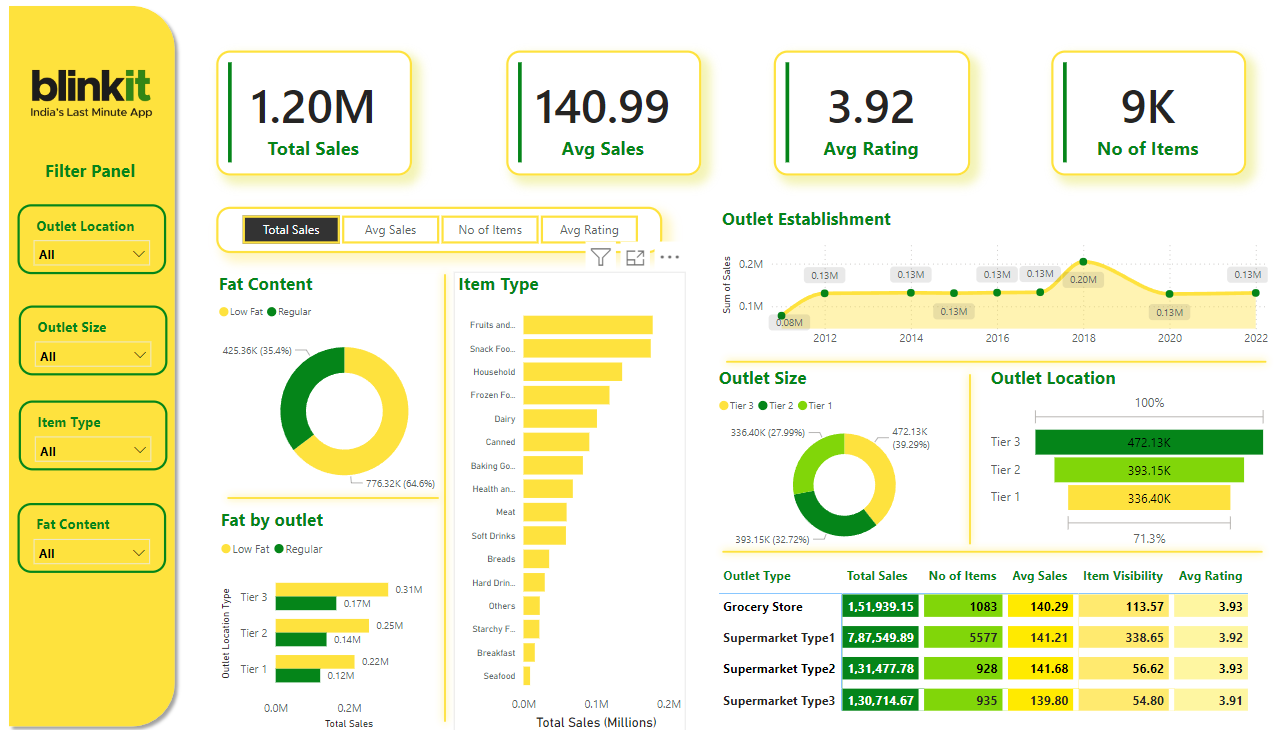

What the dashboard file says about the page in this screenshot:
{"tool":"powerbi","page":{"name":"Page 1","canvas":[1400,800],"ordinal":0},"visuals":[{"type":"shape","box":[1.4,0,197,800.3],"z":0},{"type":"image","box":[1.5,15,196.6,178.6],"z":1000},{"type":"cardVisual","fields":{"Data":["BlinkIT Grocery Data.Total Sales"]},"box":[235.1,57.3,212.5,135.7],"z":2000},{"type":"cardVisual","fields":{"Data":["BlinkIT Grocery Data.Avg Rating"]},"box":[841,57.1,213.3,135.9],"z":3000},{"type":"cardVisual","fields":{"Data":["BlinkIT Grocery Data.Average Sales"]},"box":[550,57.1,212,135.9],"z":4000},{"type":"cardVisual","fields":{"Data":["BlinkIT Grocery Data.No of Items"]},"box":[1142.7,57.1,212,135.9],"z":5000},{"type":"donutChart","title":"Fat Content","fields":{"Y":["BlinkIT Grocery Data.Total Sales"],"Series":["BlinkIT Grocery Data.Item Fat Content"]},"box":[238,297.6,273.1,246],"z":6000},{"type":"slicer","fields":{"Values":["Metrics.Metrics"]},"box":[235.1,226.9,485.1,50.3],"z":7000},{"type":"clusteredBarChart","title":"Fat by outlet","fields":{"Y":["BlinkIT Grocery Data.Total Sales"],"Category":["BlinkIT Grocery Data.Outlet Location Type"],"Series":["BlinkIT Grocery Data.Item Fat Content"]},"box":[235.1,554.4,243.2,245.9],"z":8000},{"type":"barChart","title":" Item Type","fields":{"Y":["BlinkIT Grocery Data.Total Sales"],"Category":["BlinkIT Grocery Data.Item Type"]},"box":[493.2,297.6,252.7,502.7],"z":9000},{"type":"lineChart","title":" Outlet Establishment ","fields":{"Category":["BlinkIT Grocery Data.Outlet Establishment Year"],"Y":["Sum(BlinkIT Grocery Data.Sales)"]},"box":[779.9,226.9,603.3,161.7],"z":10000},{"type":"donutChart","title":"Outlet Size","fields":{"Y":["BlinkIT Grocery Data.Total Sales"],"Category":["BlinkIT Grocery Data.Outlet Location Type"]},"box":[781.3,399.5,273.1,202.4],"z":11000},{"type":"funnel","title":" Outlet Location","fields":{"Y":["Sum(BlinkIT Grocery Data.Sales)"],"Category":["BlinkIT Grocery Data.Outlet Location Type"]},"box":[1072,399.5,311.1,202.4],"z":12000},{"type":"pivotTable","fields":{"Rows":["BlinkIT Grocery Data.Outlet Type"],"Values":["BlinkIT Grocery Data.Total Sales","BlinkIT Grocery Data.No of Items","BlinkIT Grocery Data.Avg Sales","Sum(BlinkIT Grocery Data.Item Visibility)","BlinkIT Grocery Data.Avg Rating"]},"box":[781.3,615.5,618.2,184.8],"z":13000},{"type":"shape","box":[334.2,292.1,298.9,502.7],"z":14000},{"type":"shape","box":[904.9,400.8,298.9,201.1],"z":15000},{"type":"shape","box":[239.1,292.1,245.9,502.7],"z":16000},{"type":"shape","box":[777.2,466,603.3,271.7],"z":17000},{"type":"shape","box":[781.3,259.5,603.3,271.7],"z":18000},{"type":"slicer","fields":{"Values":["BlinkIT Grocery Data.Outlet Location Type"]},"box":[18.4,224.2,161.7,76.1],"z":19000},{"type":"slicer","fields":{"Values":["BlinkIT Grocery Data.Outlet Size"]},"box":[19.8,334.2,161.7,76.1],"z":20000},{"type":"slicer","fields":{"Values":["BlinkIT Grocery Data.Item Type"]},"box":[19.8,437.5,161.7,76.1],"z":21000},{"type":"slicer","fields":{"Values":["BlinkIT Grocery Data.Item Fat Content"]},"box":[18.4,548.9,161.7,76.1],"z":22000},{"type":"textbox","box":[21.7,169.8,152.2,46.2],"z":23000}]}

Visuals, with their boxes in screenshot pixels (x1, y1, x2, y2), scaled from the page's 1400x800 canvas onto the 1281x730 screenshot:
shape: pyautogui.locateOnScreen(1, 0, 182, 729)
image: pyautogui.locateOnScreen(1, 14, 181, 177)
cardVisual - BlinkIT Grocery Data.Total Sales: pyautogui.locateOnScreen(215, 52, 410, 176)
cardVisual - BlinkIT Grocery Data.Avg Rating: pyautogui.locateOnScreen(770, 52, 965, 176)
cardVisual - BlinkIT Grocery Data.Average Sales: pyautogui.locateOnScreen(503, 52, 697, 176)
cardVisual - BlinkIT Grocery Data.No of Items: pyautogui.locateOnScreen(1046, 52, 1240, 176)
"Fat Content" donutChart: pyautogui.locateOnScreen(218, 272, 468, 496)
slicer - Metrics.Metrics: pyautogui.locateOnScreen(215, 207, 659, 253)
"Fat by outlet" clusteredBarChart: pyautogui.locateOnScreen(215, 506, 438, 729)
" Item Type" barChart: pyautogui.locateOnScreen(451, 272, 682, 729)
" Outlet Establishment " lineChart: pyautogui.locateOnScreen(714, 207, 1266, 355)
"Outlet Size" donutChart: pyautogui.locateOnScreen(715, 365, 965, 549)
" Outlet Location" funnel: pyautogui.locateOnScreen(981, 365, 1266, 549)
pivotTable - BlinkIT Grocery Data.Outlet Type x BlinkIT Grocery Data.Total Sales: pyautogui.locateOnScreen(715, 562, 1280, 729)
shape: pyautogui.locateOnScreen(306, 267, 579, 725)
shape: pyautogui.locateOnScreen(828, 366, 1101, 549)
shape: pyautogui.locateOnScreen(219, 267, 444, 725)
shape: pyautogui.locateOnScreen(711, 425, 1263, 673)
shape: pyautogui.locateOnScreen(715, 237, 1267, 485)
slicer - BlinkIT Grocery Data.Outlet Location Type: pyautogui.locateOnScreen(17, 205, 165, 274)
slicer - BlinkIT Grocery Data.Outlet Size: pyautogui.locateOnScreen(18, 305, 166, 374)
slicer - BlinkIT Grocery Data.Item Type: pyautogui.locateOnScreen(18, 399, 166, 469)
slicer - BlinkIT Grocery Data.Item Fat Content: pyautogui.locateOnScreen(17, 501, 165, 570)
textbox: pyautogui.locateOnScreen(20, 155, 159, 197)
